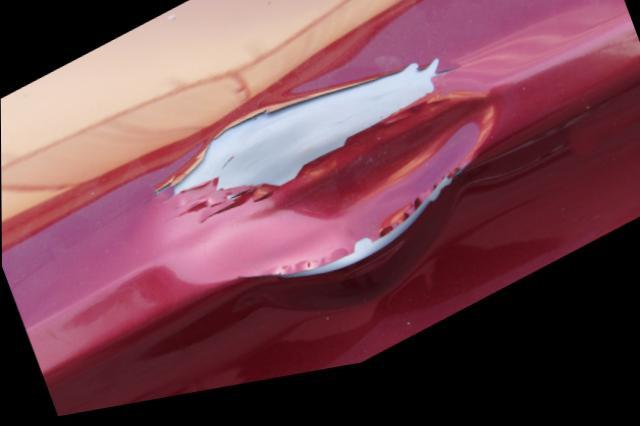dent: (134, 85, 498, 291)
